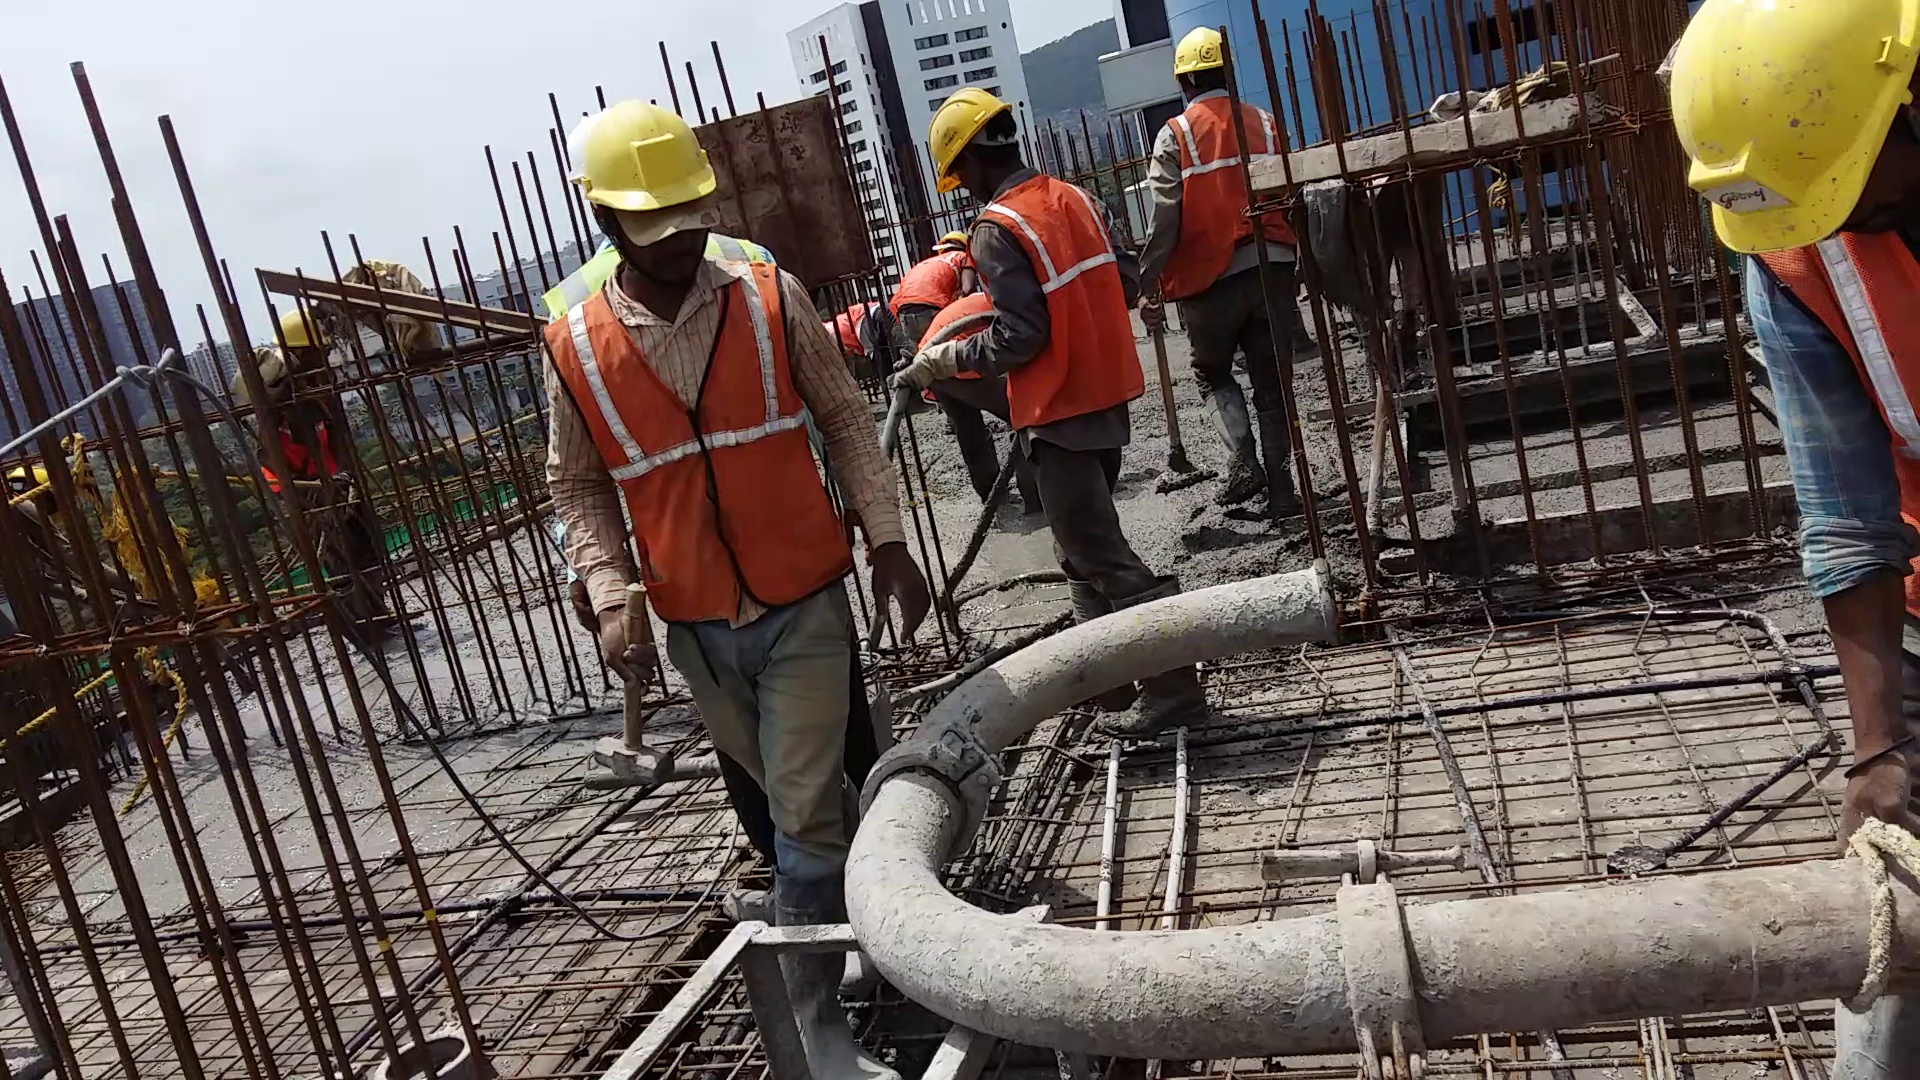SAFE: (551, 94, 856, 625), (928, 79, 1146, 433), (1151, 26, 1288, 293)
